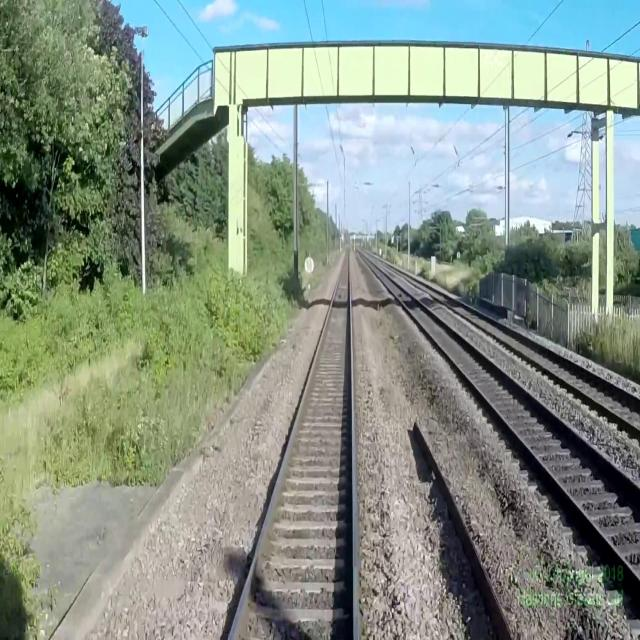rail-track: (355, 248, 640, 572), (232, 245, 353, 639), (379, 258, 640, 426)
